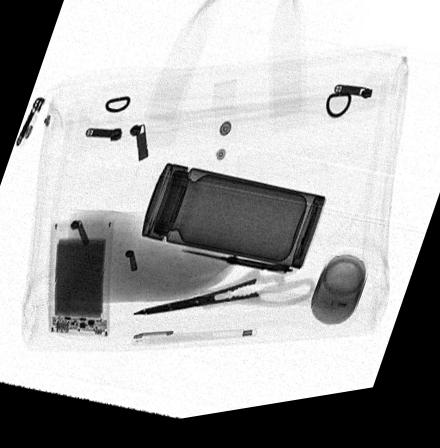Knife: (180, 254, 293, 286)
Powerbank: (46, 220, 114, 339)
Scissors: (131, 258, 315, 318)
